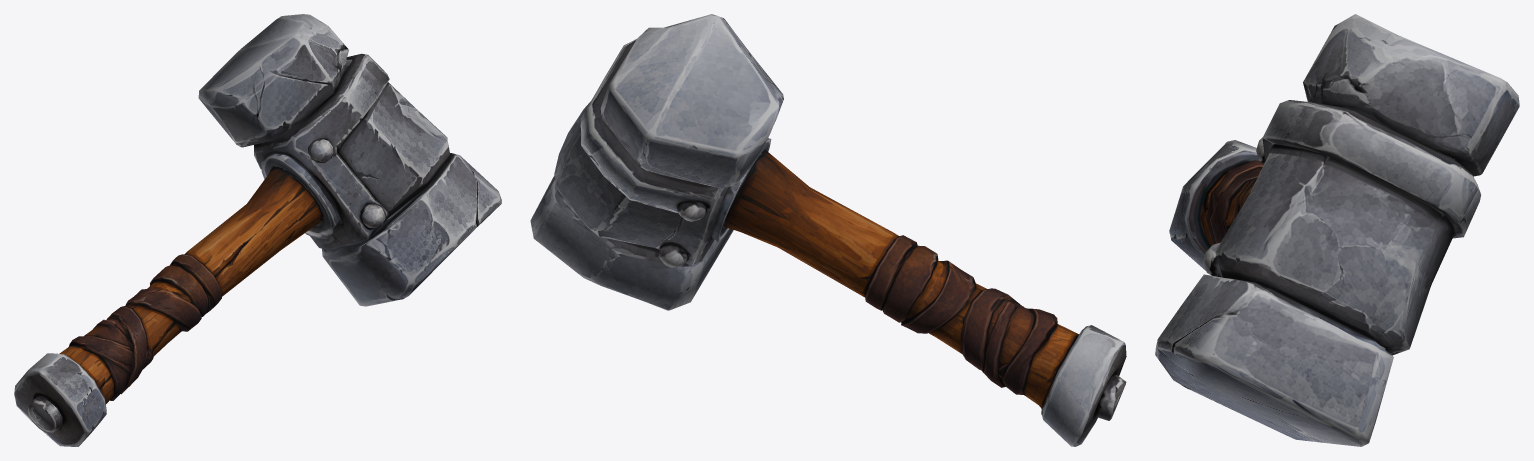
Rendered from hammer_(build_icon).fbx.
3 renders of one model, left to right at view 1: azimuth 30°, elevation 25°; view 2: azimuth 150°, elevation 25°; view 3: azimuth 270°, elevation 25°, orthographic. The views are drawn at different scales.
Visible parts, largest first — view 1: tripo_node_6814f433; view 2: tripo_node_6814f433; view 3: tripo_node_6814f433.
Part boxes in pixels (bbox=[...]): tripo_node_6814f433: bbox=[14, 14, 501, 446]; tripo_node_6814f433: bbox=[530, 14, 1126, 446]; tripo_node_6814f433: bbox=[1155, 14, 1519, 446].
Bounding box in the file's own units: 99.95 × 47.12 × 66.36.
Materials: 1 (1 with a texture image).
